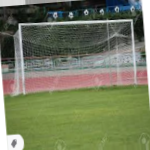goals: (12, 18, 137, 95)
